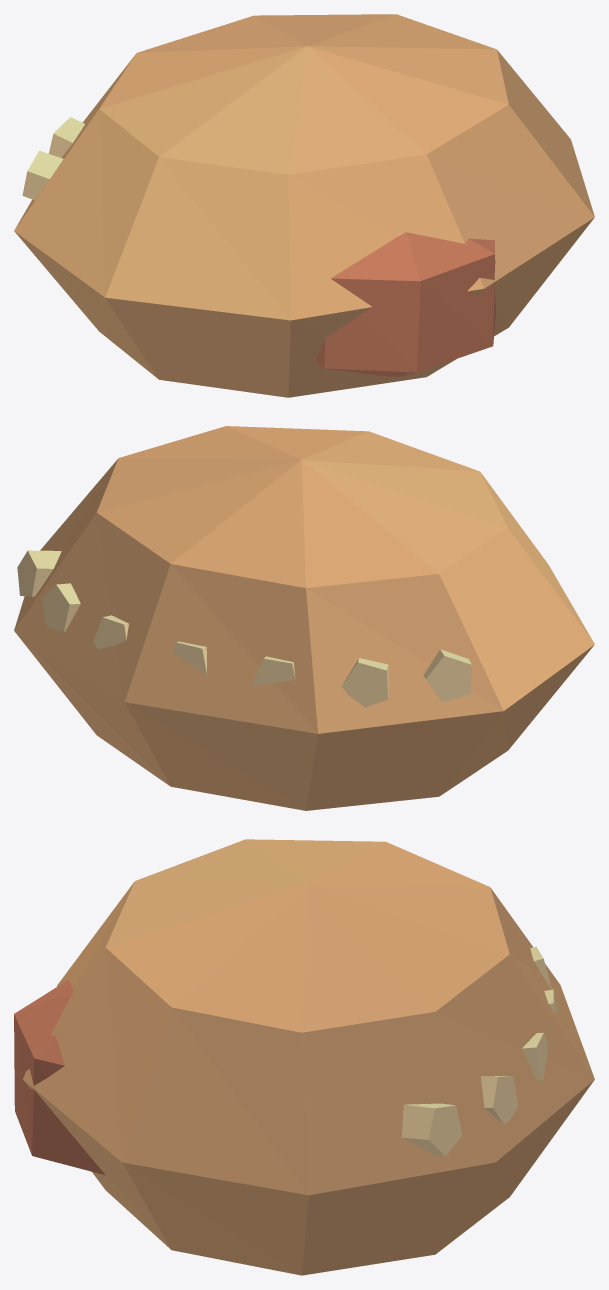
Rendered from season_find_summer.glb.
3 renders of one model, top to bottom at view 1: azimuth 30°, elevation 25°; view 2: azimuth 150°, elevation 25°; view 3: azimuth 270°, elevation 25°, orthographic. The views are drawn at different scales.
Parts seen in each view (by area): view 1: Saisonfund · summer; view 2: Saisonfund · summer; view 3: Saisonfund · summer.
Boxes of the visible parts, x1,y1,x2,y2 form: Saisonfund · summer: (14,14,594,397); Saisonfund · summer: (14,426,594,810); Saisonfund · summer: (14,839,594,1275).
Size of the model in its own units: 0.4655 by 0.274 by 0.4201.
